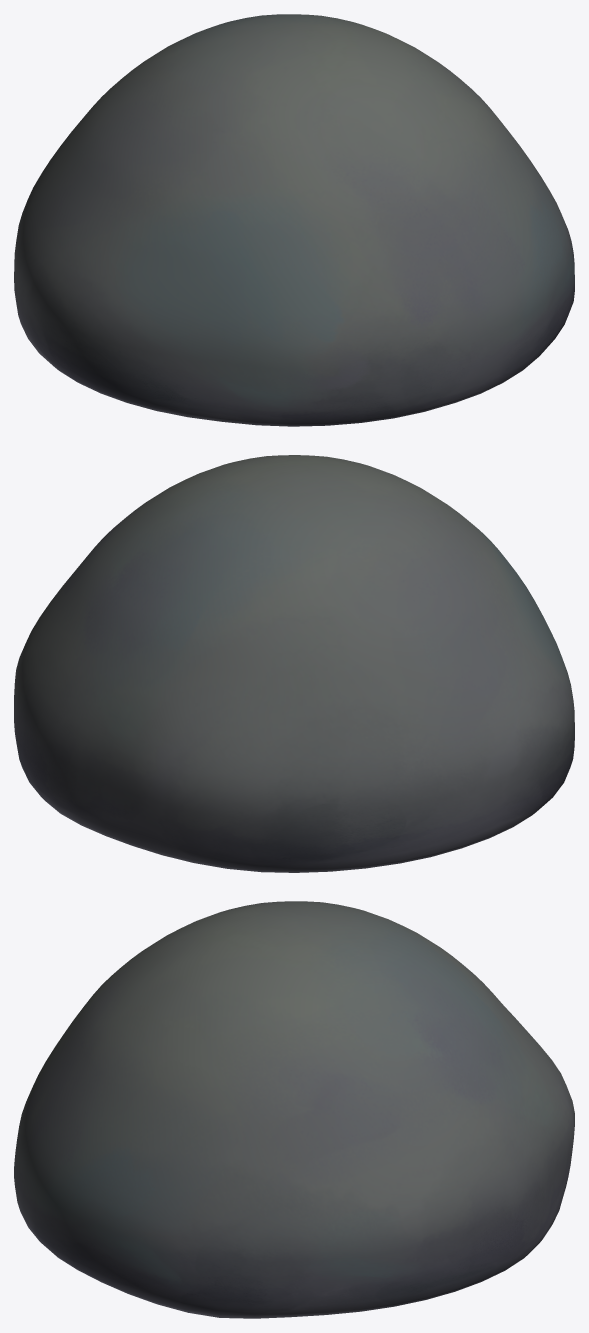
Rendered from CaveDome.fbx.
The picture shows the model from 3 angles, top to bottom: view 1: azimuth 30°, elevation 25°; view 2: azimuth 150°, elevation 25°; view 3: azimuth 270°, elevation 25°; orthographic projection.
Parts seen in each view (by area): view 1: CaveDome; view 2: CaveDome; view 3: CaveDome.
Part boxes in pixels (x1,y1,x2,y2): CaveDome: [14, 14, 574, 426]; CaveDome: [14, 455, 574, 872]; CaveDome: [14, 901, 574, 1318].
Bounding box in the file's own units: 564 × 311 × 556.
1 material, 1 textured.
